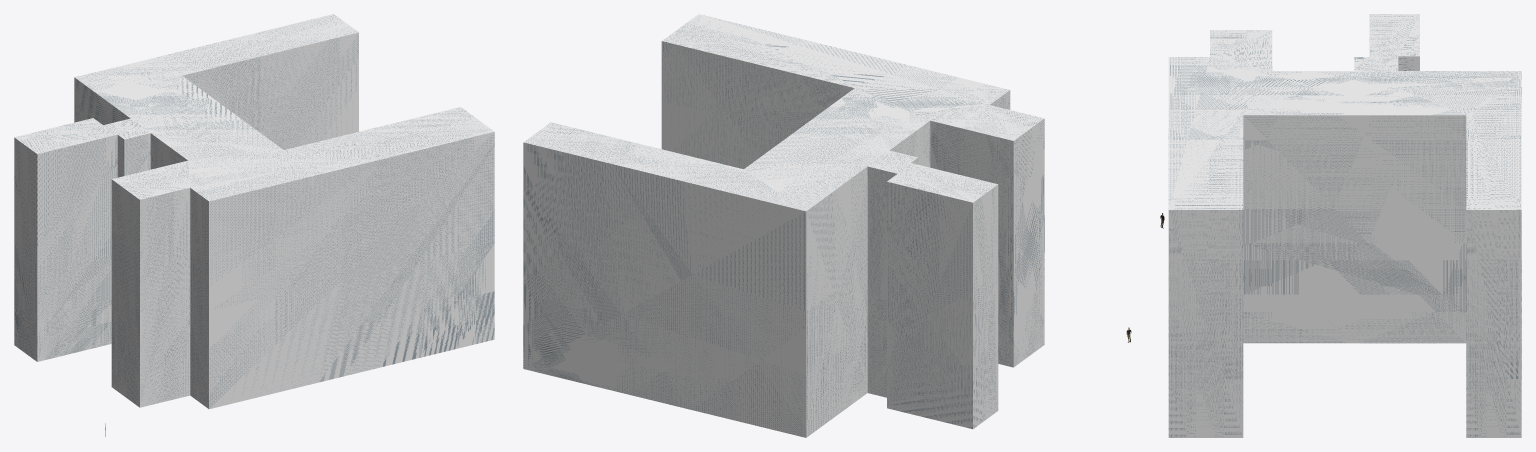
Rendered from Humms 2.dae.
3 views of the same model, side by side, from view 1: azimuth 30°, elevation 25°; view 2: azimuth 150°, elevation 25°; view 3: azimuth 270°, elevation 25° (orthographic). The views are drawn at different scales.
Parts seen in each view (by area): view 1: SketchUp; view 2: SketchUp; view 3: SketchUp.
Part boxes in pixels (bbox=[...]): SketchUp: bbox=[14, 14, 494, 409]; SketchUp: bbox=[523, 14, 1044, 437]; SketchUp: bbox=[1168, 14, 1521, 437].
Bounding box in the file's own units: 2077 × 1508 × 1049.
